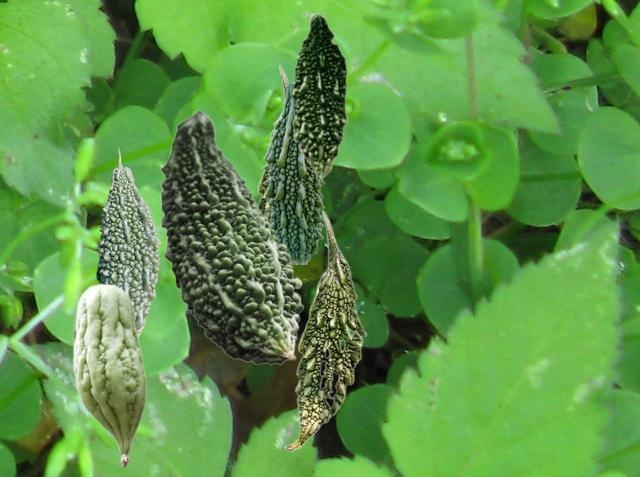ampalaya: (160, 109, 303, 364), (284, 209, 366, 450), (72, 283, 146, 467), (96, 147, 160, 337), (262, 84, 324, 263), (291, 10, 351, 179), (257, 64, 289, 218)
